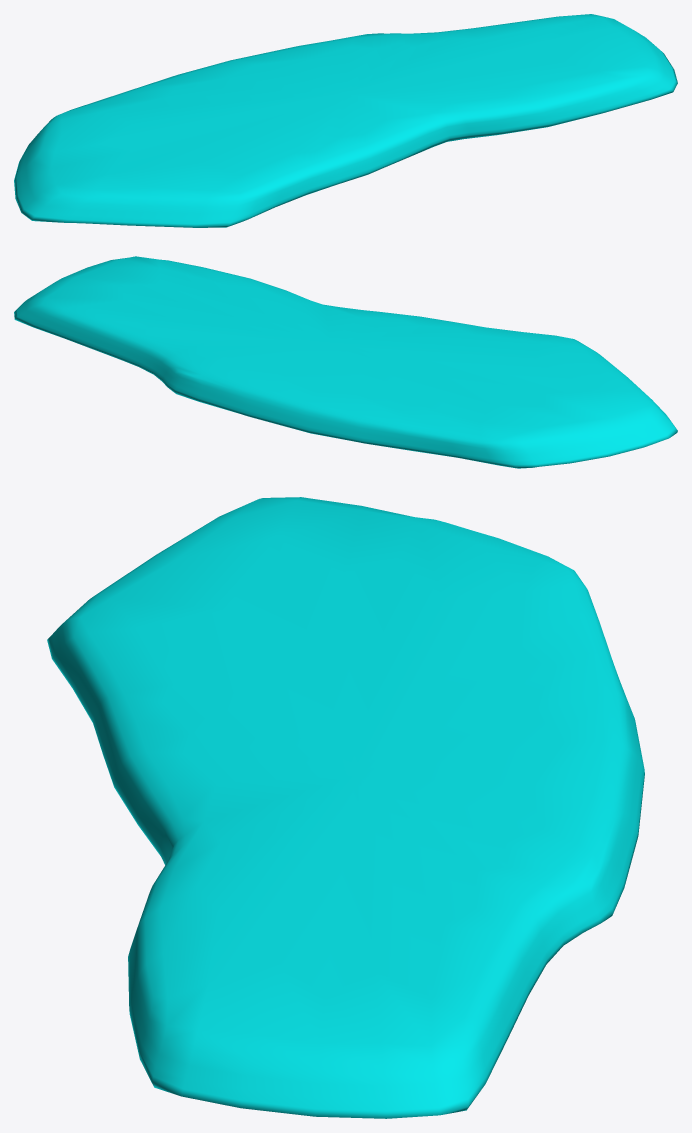
The model's file is Water_Puddle.fbx.
3 renders of one model, top to bottom at view 1: azimuth 30°, elevation 25°; view 2: azimuth 150°, elevation 25°; view 3: azimuth 270°, elevation 25°, orthographic. The views are drawn at different scales.
Visible parts, largest first — view 1: Circle; view 2: Circle; view 3: Circle.
Boxes of the visible parts, left/top/right/bottom form: Circle: left=14, top=14, right=677, bottom=227; Circle: left=14, top=256, right=677, bottom=468; Circle: left=47, top=497, right=644, bottom=1118.
Size of the model in its own units: 3348 by 159 by 1389.
